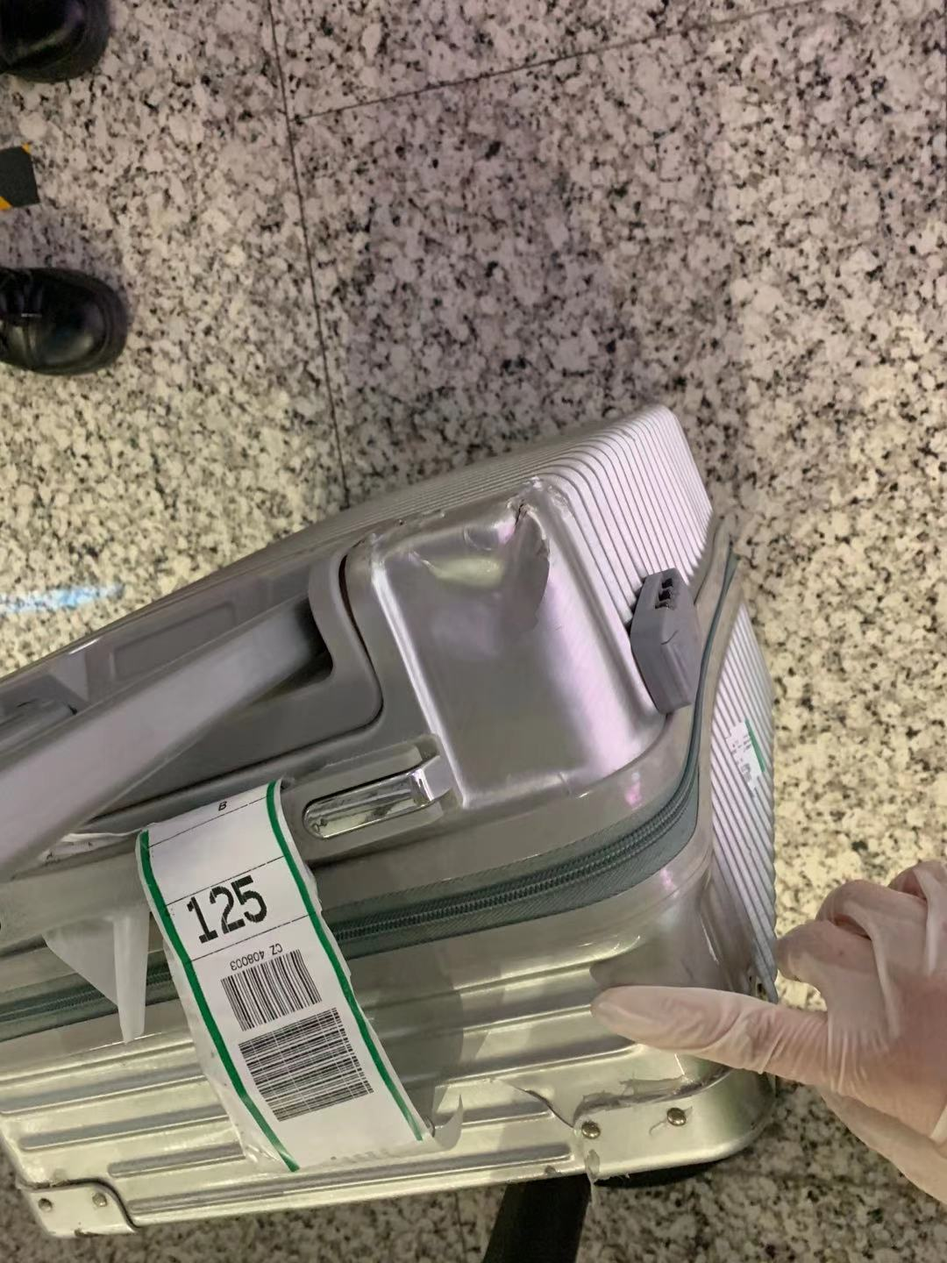rupture: (398, 504, 543, 649)
